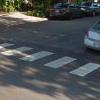Crosswalk: (2, 40, 99, 83)
